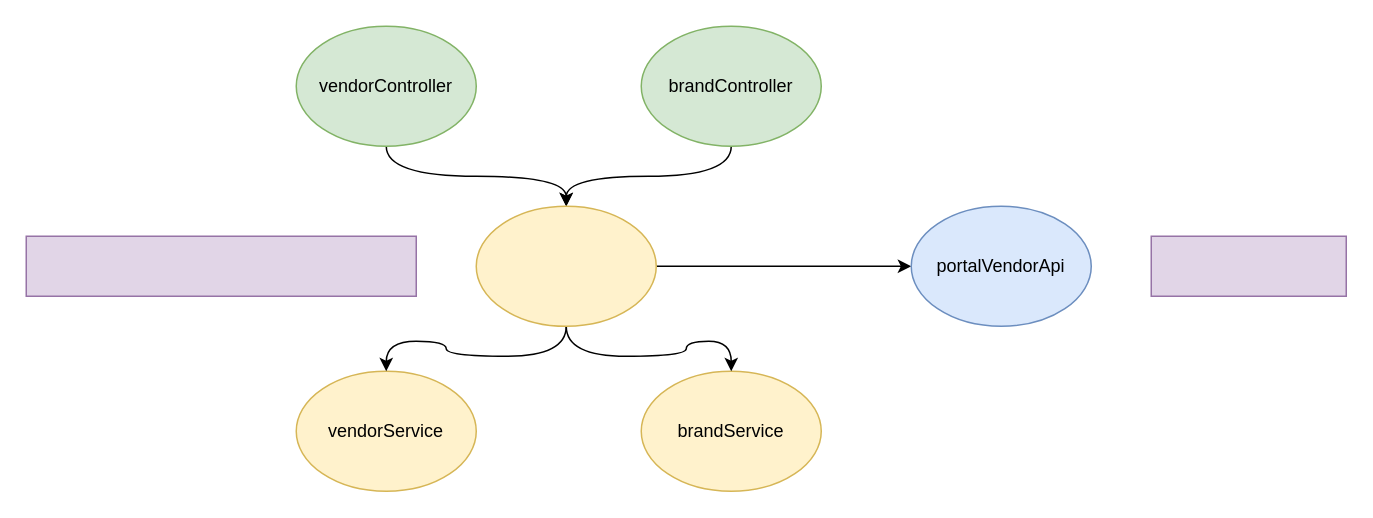
The diagram is 1373 pixels wide and 518 high, and some of its shapes have lost their labels. Here are the shapes that lost their labels. From the top down, the box of each, then its label:
(25, 235, 416, 296): 代理更新、删除品牌；更新、新增、删除供应商操作，在数据操作的同时更新ES索引数据
(475, 205, 656, 326): esVendorService
(1150, 235, 1346, 296): portal服务提供操作ES的REST接口
